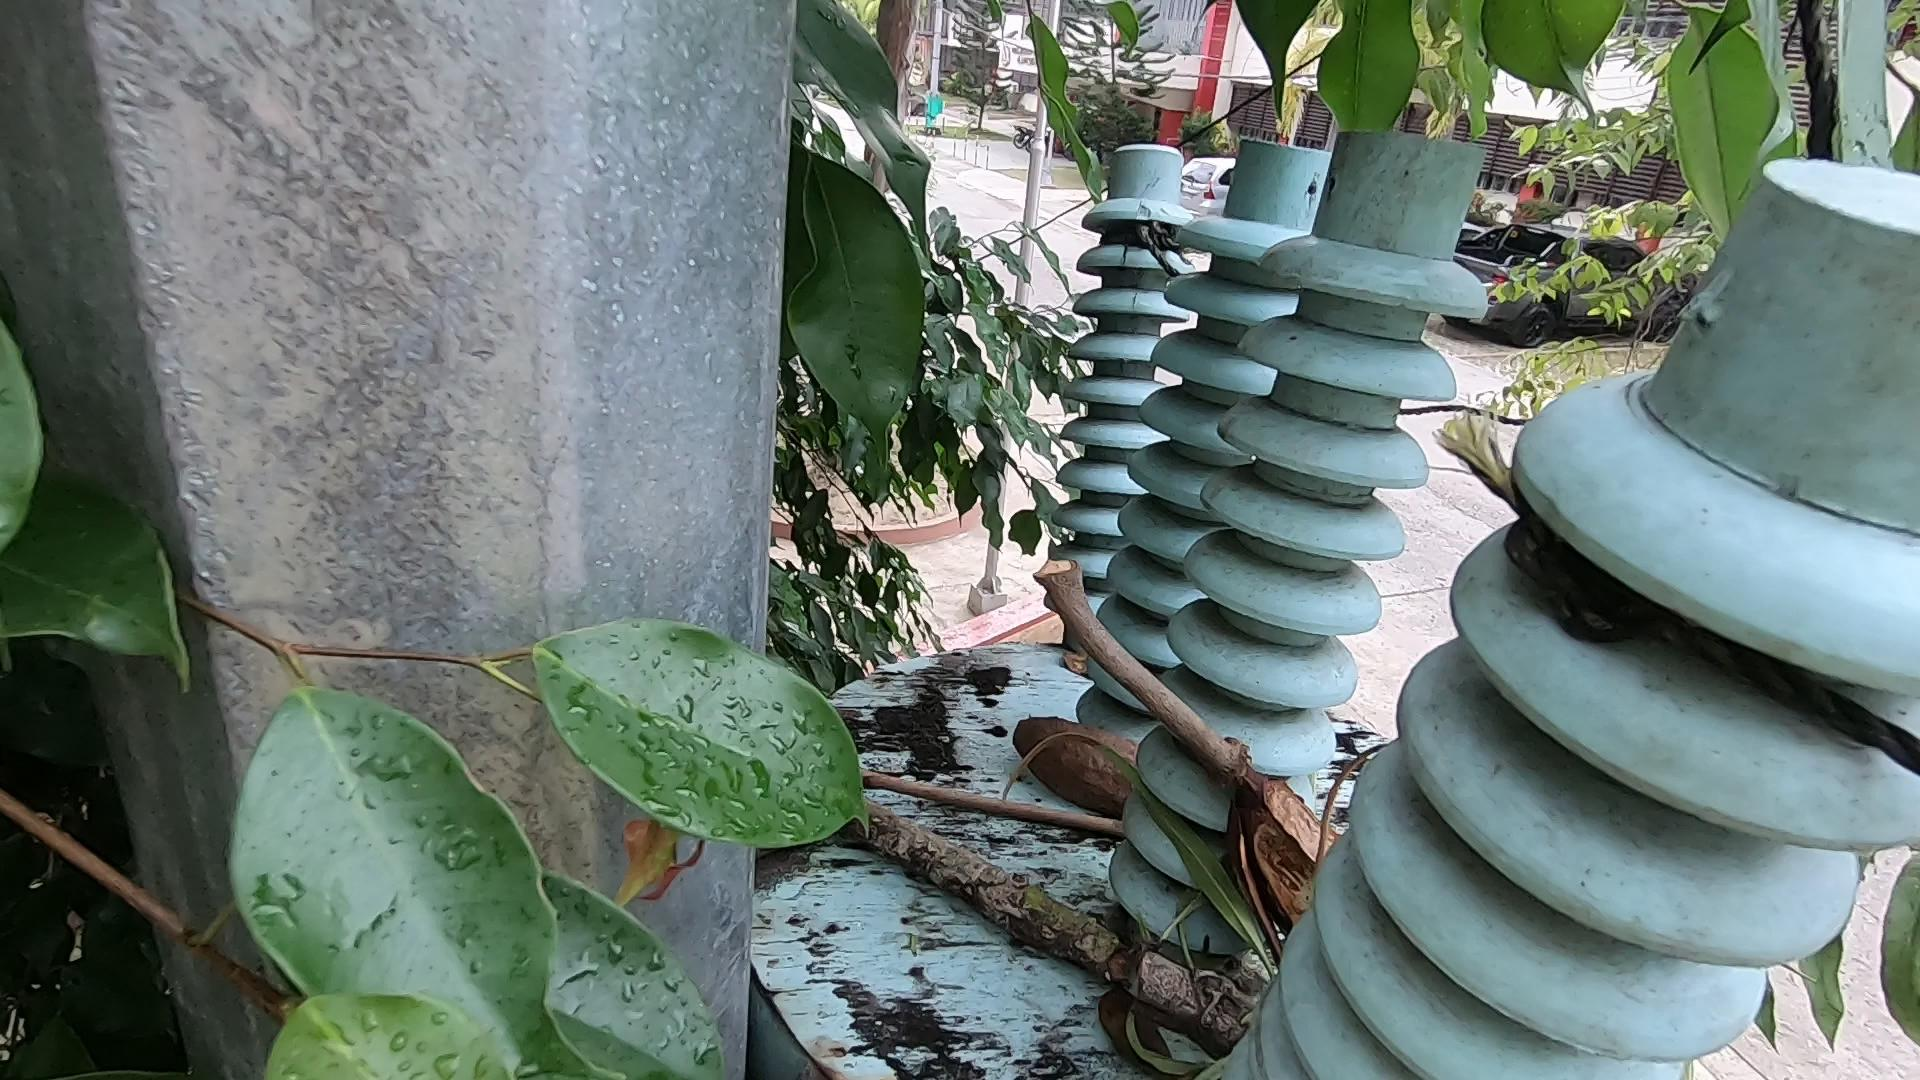branch with leaves: (812, 769, 1247, 1030)
leaf: (1145, 807, 1287, 1011), (1095, 973, 1199, 1073)
mahogany fruit: (986, 653, 1151, 832), (1229, 794, 1341, 944)
tree branch: (1051, 560, 1283, 808), (856, 771, 1126, 837)
